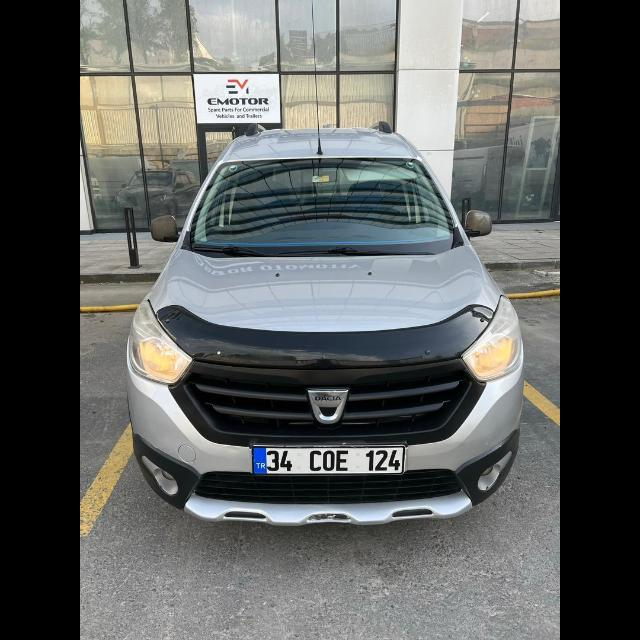Plaka: (253, 446, 404, 472)
